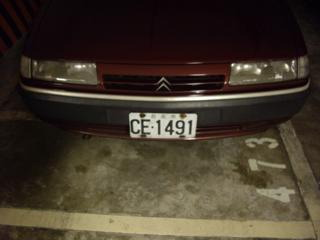plate: (127, 109, 199, 142)
